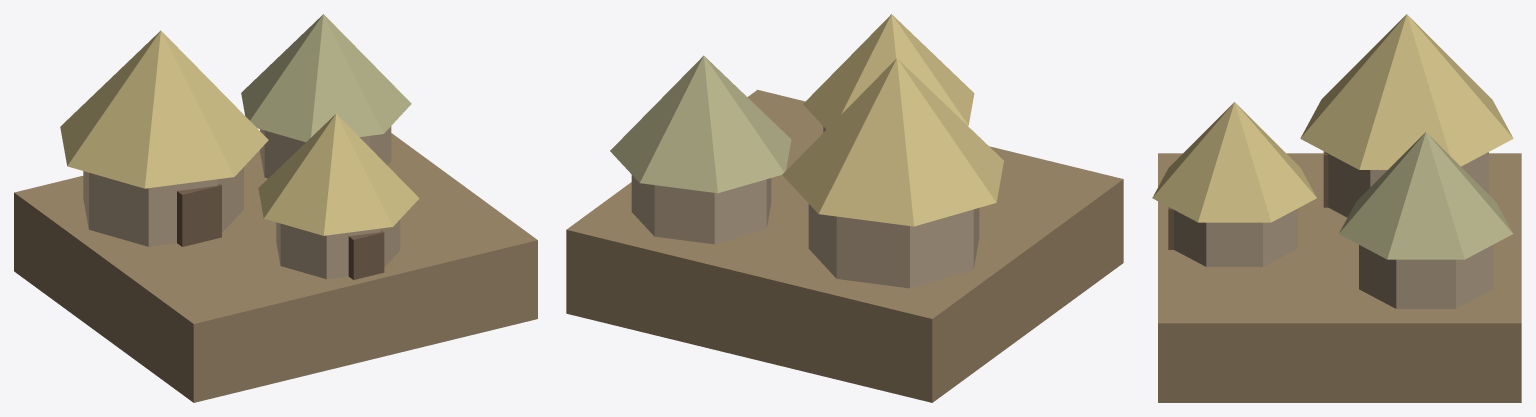
Rendered from house-ancient-0.glb.
3 views of the same model, side by side, from view 1: azimuth 30°, elevation 25°; view 2: azimuth 150°, elevation 25°; view 3: azimuth 270°, elevation 25° (orthographic). The views are drawn at different scales.
Visible parts, largest first — view 1: LOD0; view 2: LOD0; view 3: LOD0.
Boxes of the visible parts, x1,y1,x2,y2 form: LOD0: [14, 14, 537, 402]; LOD0: [566, 14, 1123, 402]; LOD0: [1152, 14, 1521, 402].
Size of what is drawn, in the model's own units: 0.2122 by 0.152 by 0.1931.
